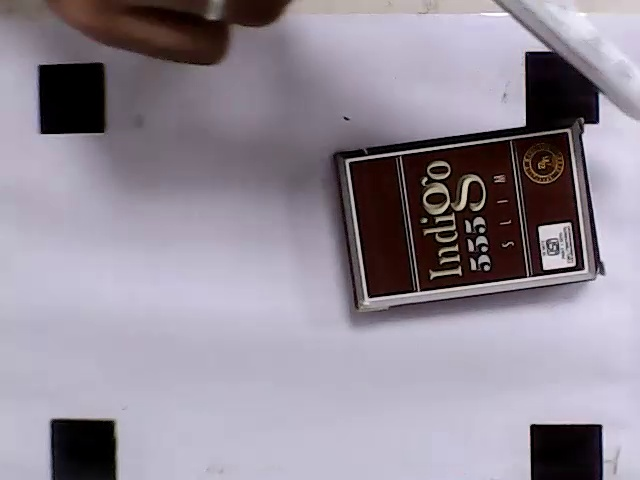BEX: (347, 128, 587, 300)
